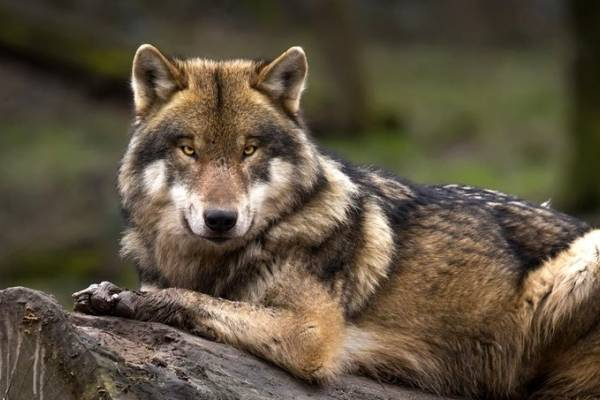Lobo: (101, 35, 582, 379)
